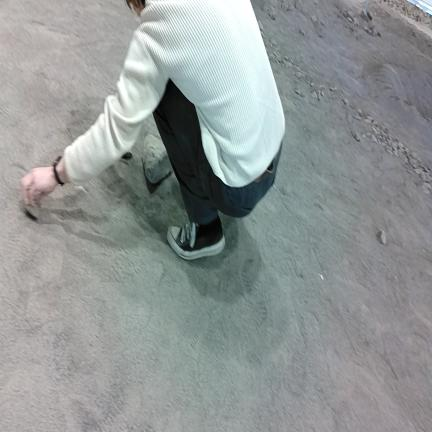Rock: (144, 134, 171, 183), (383, 126, 394, 140), (377, 230, 386, 244), (360, 9, 369, 21), (351, 130, 360, 141), (282, 2, 292, 11), (268, 8, 275, 20), (372, 27, 381, 36), (371, 126, 380, 135), (122, 152, 132, 160), (295, 0, 302, 11), (274, 52, 281, 63), (423, 182, 432, 190), (347, 11, 354, 21), (419, 171, 426, 181), (409, 158, 416, 168), (285, 4, 293, 12), (353, 17, 359, 27), (371, 135, 378, 143), (369, 22, 375, 31), (347, 113, 353, 122), (342, 9, 348, 18), (258, 21, 263, 31), (295, 89, 302, 96), (311, 15, 317, 23), (414, 168, 422, 174), (398, 143, 404, 151), (426, 173, 431, 182), (399, 150, 404, 159), (367, 11, 372, 20), (401, 156, 407, 163), (284, 56, 291, 62), (371, 119, 377, 126), (365, 117, 372, 123), (295, 72, 302, 78), (271, 39, 277, 46), (423, 188, 430, 194), (364, 24, 369, 32), (411, 152, 417, 158), (405, 147, 409, 156), (295, 65, 301, 71), (268, 54, 274, 60), (330, 87, 337, 92), (366, 131, 371, 138), (358, 109, 362, 117), (300, 28, 304, 36), (343, 99, 348, 105), (312, 92, 317, 98), (320, 90, 324, 97), (354, 116, 361, 120), (393, 150, 398, 155), (348, 17, 353, 22), (407, 169, 412, 174), (320, 21, 325, 26), (350, 26, 354, 32), (319, 85, 325, 89), (310, 82, 314, 88), (261, 31, 264, 39), (317, 92, 320, 100), (362, 134, 366, 138)
